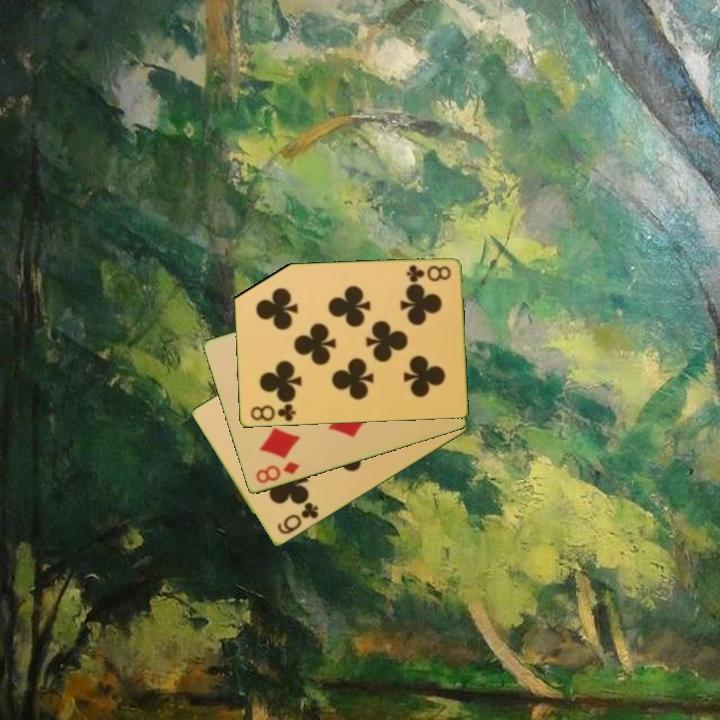6c: (274, 499, 322, 538)
8c: (247, 400, 299, 424), (402, 262, 453, 285)
8d: (252, 458, 302, 487)
